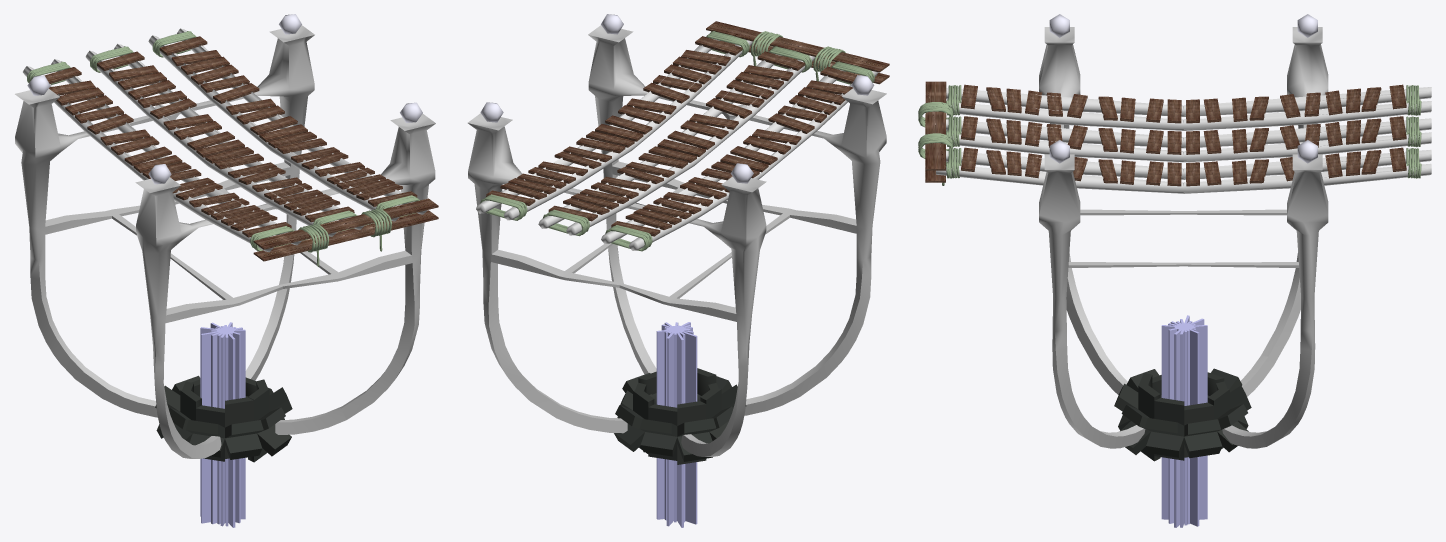
Rendered from 3_bridge_straight.fbx.
The picture shows the model from 3 angles, left to right: view 1: azimuth 30°, elevation 25°; view 2: azimuth 150°, elevation 25°; view 3: azimuth 270°, elevation 25°; orthographic projection. The views are drawn at different scales.
Visible parts, largest first — view 1: 3_straight_base, gravityring, 3_straight_LaM, 3_straight_LaR, 3_straight_LaL, 3_straight_verschlag, 3_straight_LaR_carrier, 3_straight_LaM_carrier, 3_straight_LaL_carrier, 3_straight_ropevertical, 3_straight_LaL_rope, 3_straight_LaR_rope (+1 smaller); view 2: 3_straight_base, gravityring, 3_straight_LaM, 3_straight_LaR, 3_straight_LaL, 3_straight_LaR_carrier, 3_straight_LaM_carrier, 3_straight_LaL_carrier, 3_straight_verschlag, 3_straight_LaR_rope, 3_straight_ropevertical, 3_straight_LaM_rope (+1 smaller); view 3: 3_straight_base, gravityring, 3_straight_LaL_carrier, 3_straight_LaL, 3_straight_LaM, 3_straight_LaM_carrier, 3_straight_LaR_carrier, 3_straight_LaR, 3_straight_verschlag, 3_straight_ropevertical, 3_straight_LaR_rope, 3_straight_LaL_rope (+1 smaller).
Boxes of the visible parts, x1,y1,x2,y2 form: 3_straight_base: (15,14,435,458); gravityring: (155,322,292,527); 3_straight_LaM: (97,51,354,222); 3_straight_LaR: (159,36,417,206); 3_straight_LaL: (44,67,291,237); 3_straight_verschlag: (253,198,438,261); 3_straight_LaR_carrier: (148,28,427,221); 3_straight_LaM_carrier: (85,43,364,236); 3_straight_LaL_carrier: (23,59,301,252); 3_straight_ropevertical: (298,208,391,266); 3_straight_LaL_rope: (27,61,294,251); 3_straight_LaR_rope: (152,31,420,220); 3_straight_base: (467,14,886,456); gravityring: (614,322,746,527); 3_straight_LaM: (548,51,805,221); 3_straight_LaR: (486,36,742,205); 3_straight_LaL: (611,66,856,236); 3_straight_LaR_carrier: (476,38,752,220); 3_straight_LaM_carrier: (538,54,815,235); 3_straight_LaL_carrier: (601,69,878,250); 3_straight_verschlag: (706,21,889,84); 3_straight_LaR_rope: (480,31,749,220); 3_straight_ropevertical: (750,31,845,81); 3_straight_LaM_rope: (542,46,812,236); 3_straight_base: (1039,14,1328,448); gravityring: (1114,315,1251,527); 3_straight_LaL_carrier: (946,87,1431,130); 3_straight_LaL: (961,84,1406,123); 3_straight_LaM: (961,116,1406,154); 3_straight_LaM_carrier: (946,118,1431,162); 3_straight_LaR_carrier: (936,150,1431,193); 3_straight_LaR: (961,147,1406,186); 3_straight_verschlag: (925,81,946,182); 3_straight_ropevertical: (918,102,953,185); 3_straight_LaR_rope: (946,148,1421,178); 3_straight_LaL_rope: (946,85,1421,115).
Size of the model in its own units: 82 by 117 by 124.
Materials: 7 (1 with a texture image).
